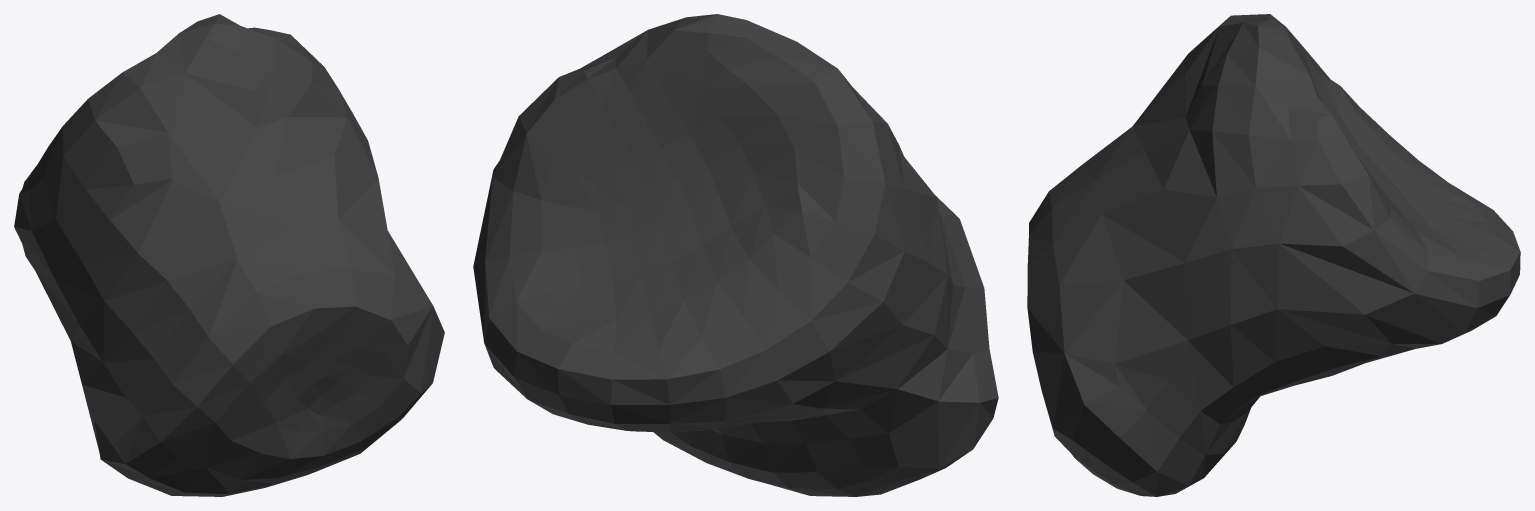
The picture shows the model from 3 angles, left to right: view 1: azimuth 30°, elevation 25°; view 2: azimuth 150°, elevation 25°; view 3: azimuth 270°, elevation 25°; orthographic projection. The views are drawn at different scales.
Parts seen in each view (by area): view 1: FL_P2_R; view 2: FL_P2_R; view 3: FL_P2_R.
Boxes of the visible parts, x1=… form: FL_P2_R: x1=14, y1=14, x2=444, y2=496; FL_P2_R: x1=473, y1=14, x2=998, y2=496; FL_P2_R: x1=1027, y1=14, x2=1520, y2=496.
Size of the model in its own units: 0.072 by 0.09 by 0.0899.
1 material, 1 textured.
